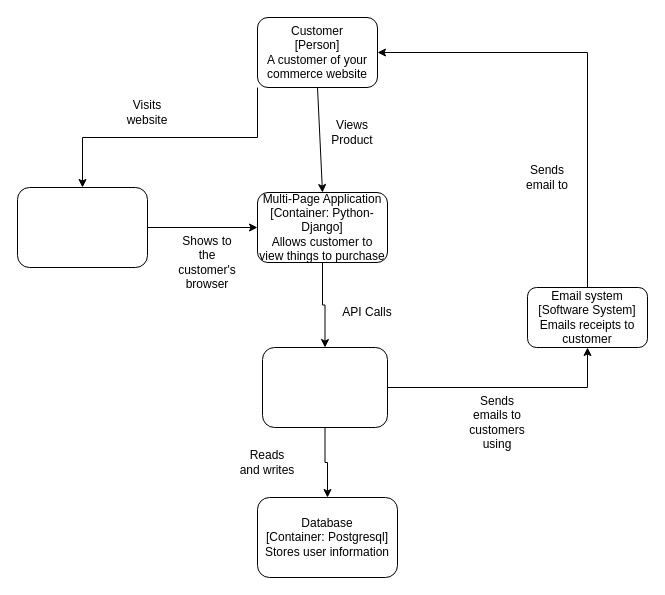
Some shapes in this 665 by 595 pixel diagram are drawn without their labels. The box of each missing label's shape, as (x1, y1, x2, y2) in pixels:
API [Container: Django rest framework] Provides payment processing: (262, 346, 388, 428)
Web Application [Container: Python-Django] Shows all of the static content: (16, 186, 148, 268)
